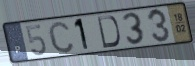1: (72, 17, 91, 53)
3: (146, 7, 171, 44), (121, 11, 147, 46)
5: (24, 22, 48, 57)
C: (46, 20, 76, 55)
D: (96, 15, 122, 50)
